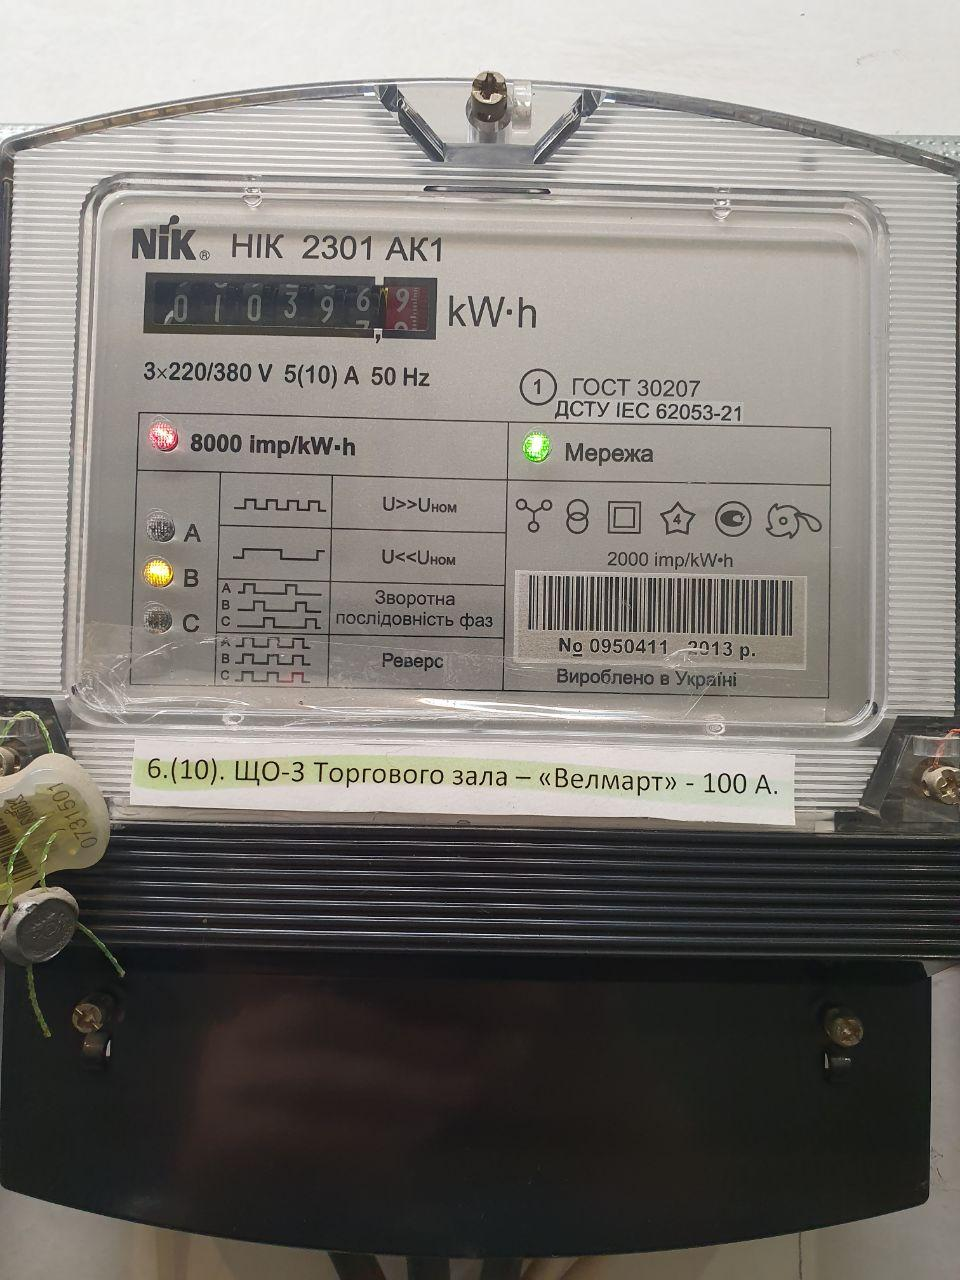0: (243, 291, 265, 324), (170, 291, 190, 324)
1: (211, 291, 224, 324)
3: (282, 289, 301, 322)
6: (353, 285, 374, 314)
9: (316, 293, 336, 326), (391, 286, 412, 316)
screen: (129, 260, 448, 354)
